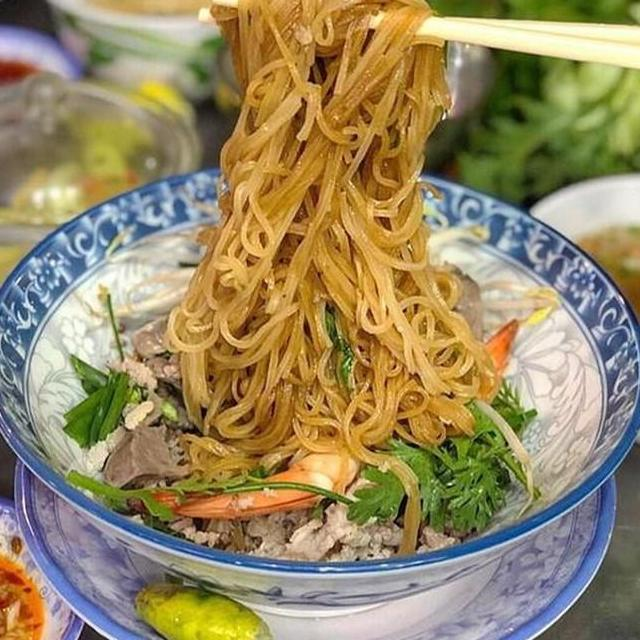mi: (155, 0, 505, 486)
mi tron: (0, 0, 640, 640)
thit bam: (152, 476, 466, 568)
tom: (130, 423, 372, 524)
